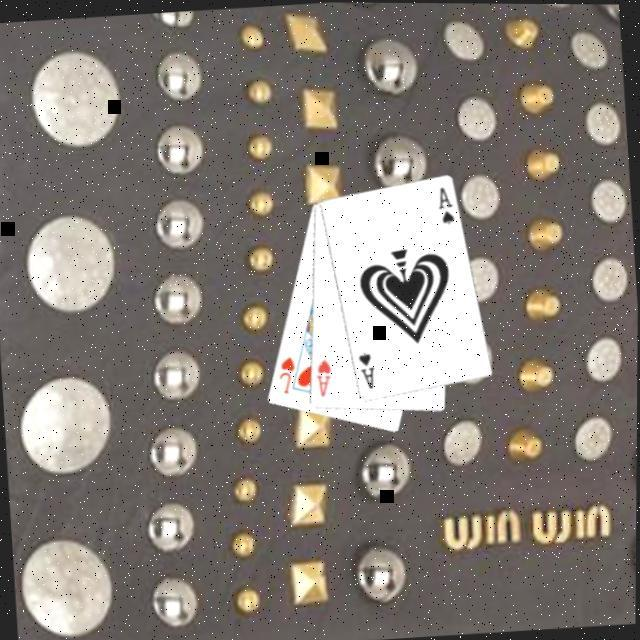AH: (310, 356, 333, 399)
AS: (432, 183, 455, 228), (352, 350, 376, 393)
JH: (272, 354, 297, 397)
